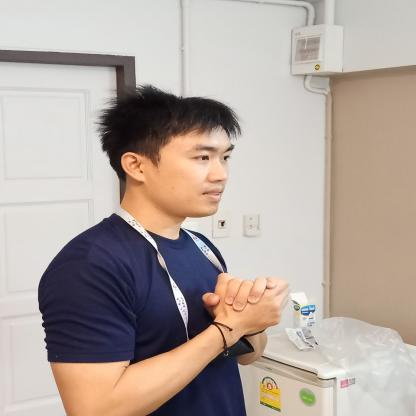Grieve: (144, 248, 353, 352)
